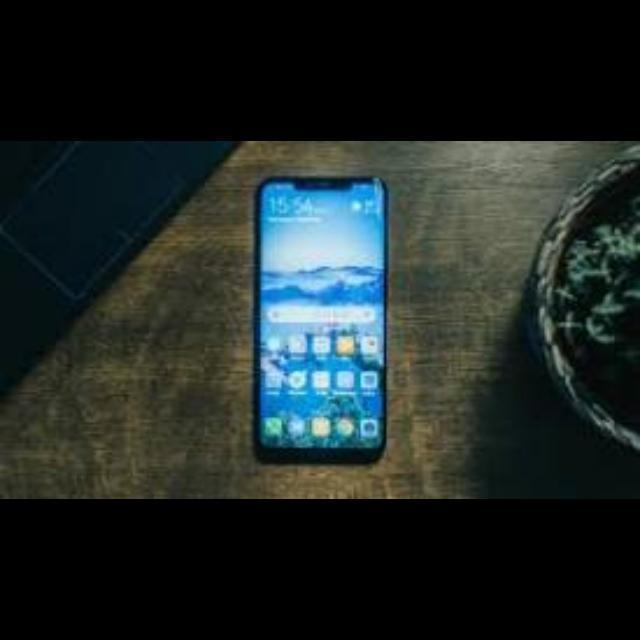phone: (247, 168, 393, 460)
